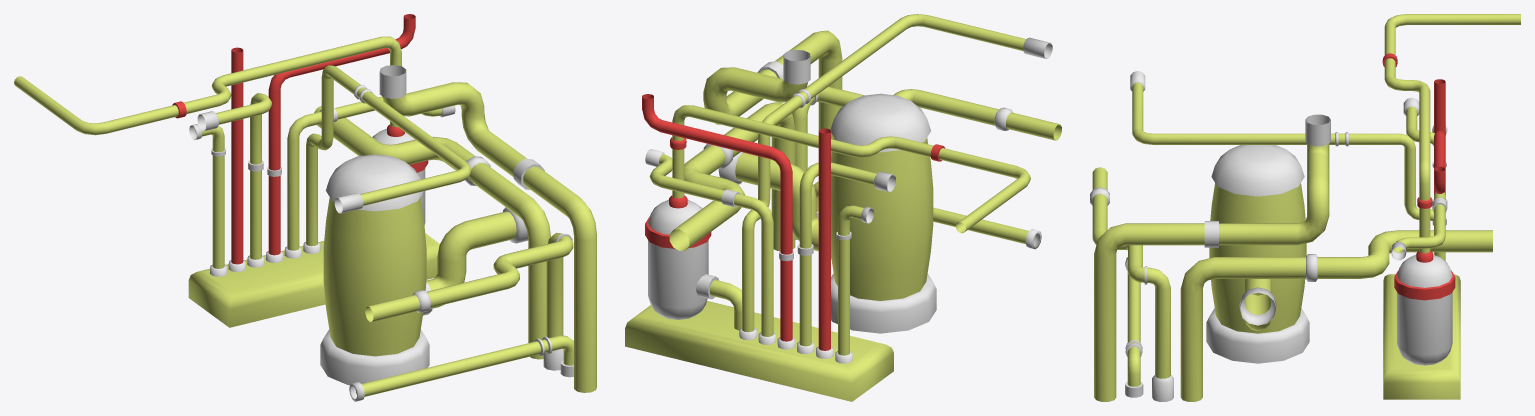
File: Submarine_pipes1.glb
3 renders of one model, left to right at view 1: azimuth 30°, elevation 25°; view 2: azimuth 150°, elevation 25°; view 3: azimuth 270°, elevation 25°, orthographic. The views are drawn at different scales.
Parts seen in each view (by area): view 1: Pipes.004, Pipes.001, Boiler, Cube, Pipes.002, Pipes.007; view 2: Pipes.001, Boiler, Pipes.004, Cube, Pipes.002, Pipes.007, Pipes.003; view 3: Pipes.004, Boiler, Pipes.002, Pipes.001, Cube, Pipes.007.
Boxes of the visible parts, x1,y1,x2,y2 form: Pipes.004: (314,65,596,401); Pipes.001: (189,14,471,276); Boiler: (320,154,429,385); Cube: (188,233,439,327); Pipes.002: (14,36,428,224); Pipes.007: (423,207,528,315); Pipes.001: (642,14,1052,363); Boiler: (830,93,936,333); Pipes.004: (669,30,1061,250); Cube: (625,301,893,401); Pipes.002: (645,105,1030,319); Pipes.007: (718,152,831,258); Pipes.003: (696,274,741,330); Pipes.004: (1090,114,1492,401); Boiler: (1206,145,1309,363); Pipes.002: (1382,14,1520,365); Pipes.001: (1130,71,1447,260); Cube: (1383,274,1460,399); Pipes.007: (1239,279,1276,330).
Bounding box in the file's own units: 10.03 × 6.65 × 10.6.
